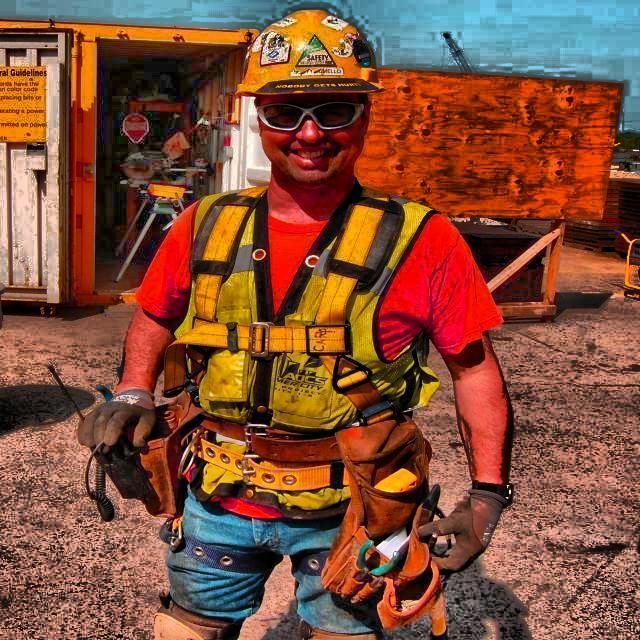safety_jacket: (165, 166, 456, 524)
